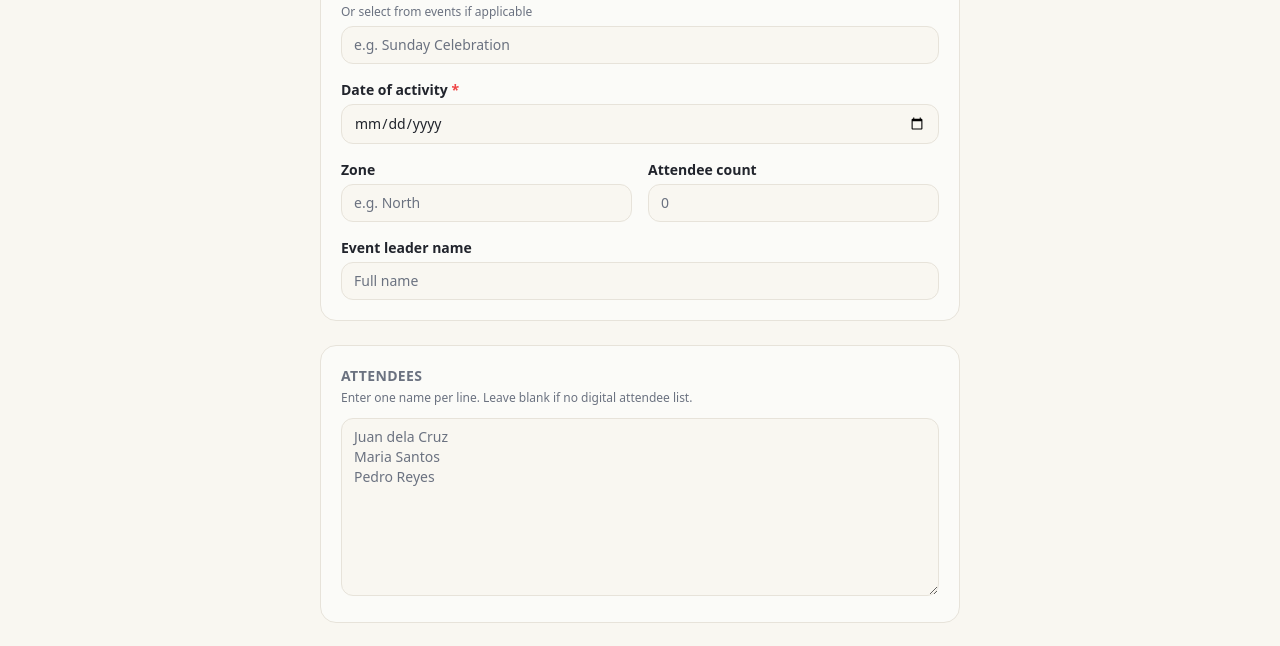
Scenario: CommunityReportFormPage — validation › shows error when both event title and attendee list are empty on submit
// Fill date but leave event_title and attendee_names empty
Type "2026-06-25" into the date field labelled "Date of activity *" at (640, 124), box [341,104,939,144]
(page scrolled)
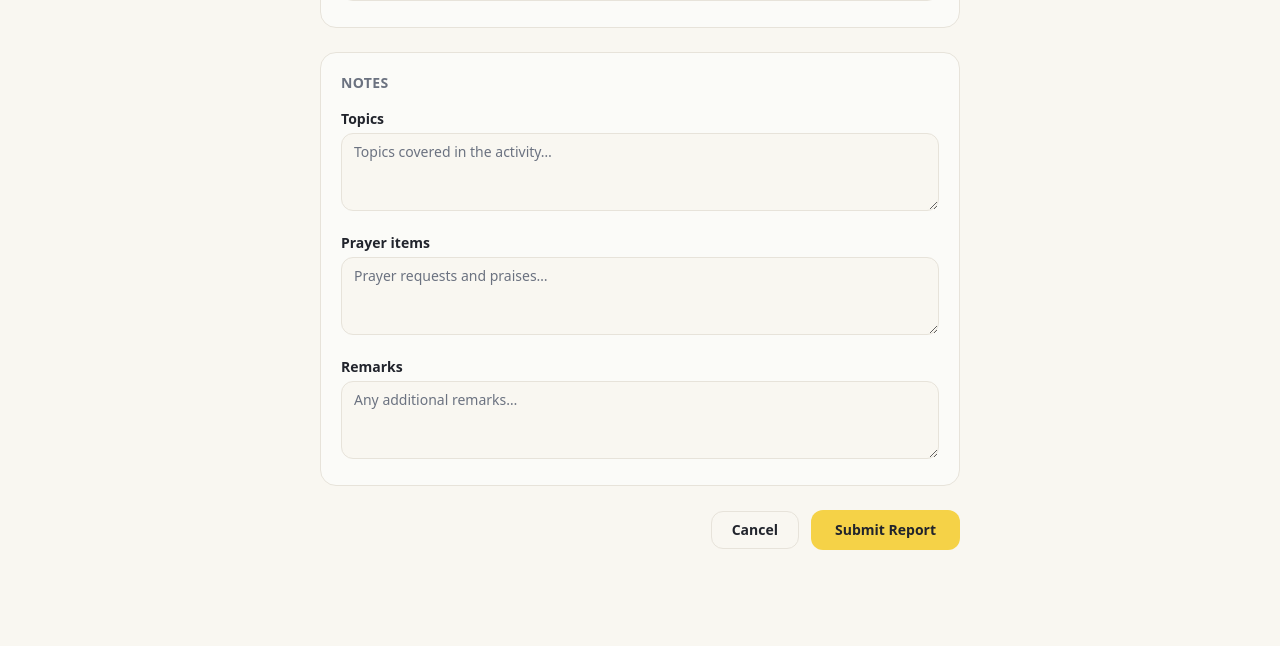
Click the button "Submit Report" at (886, 530), box [811,510,960,550]
(page scrolled)
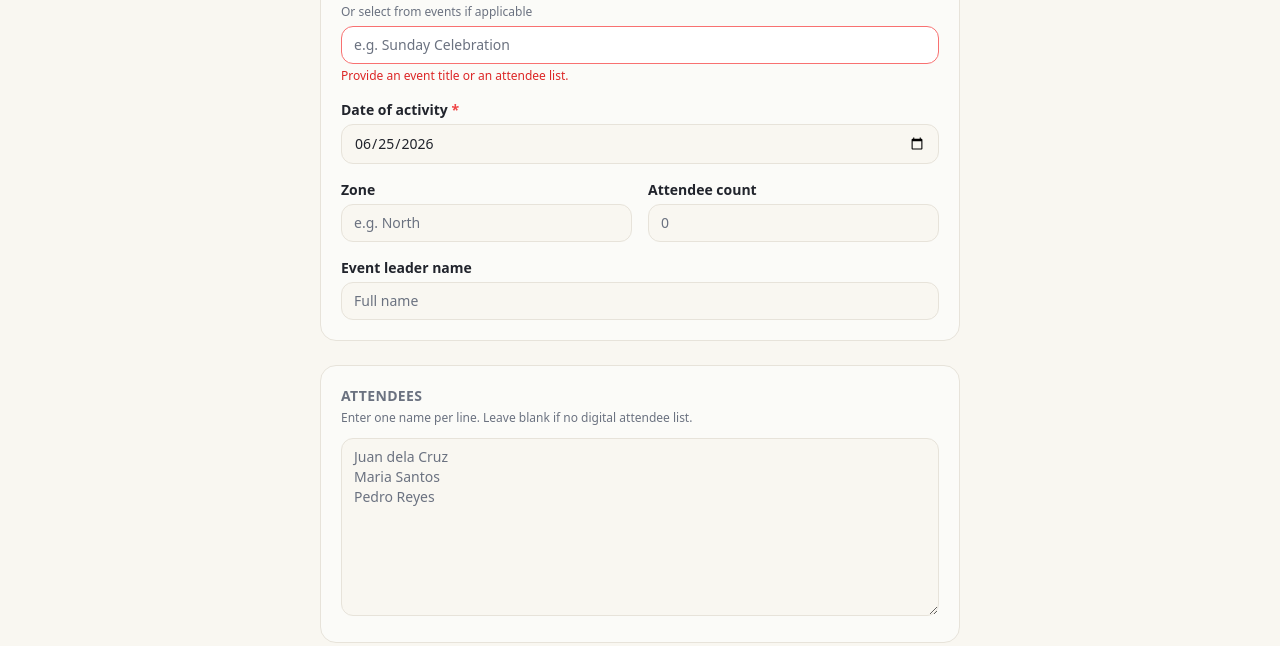
Expected: the text "Provide an event title or an attendee list." is shown, [341,67,568,84]
